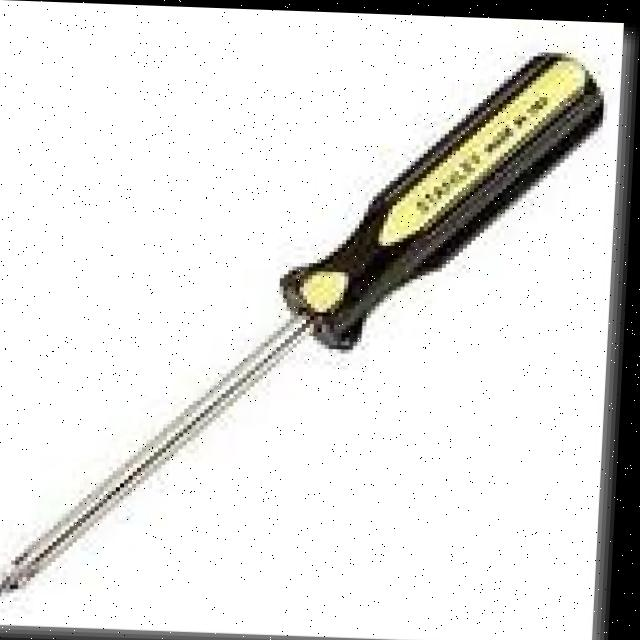Screwdriver: (8, 49, 598, 593)
